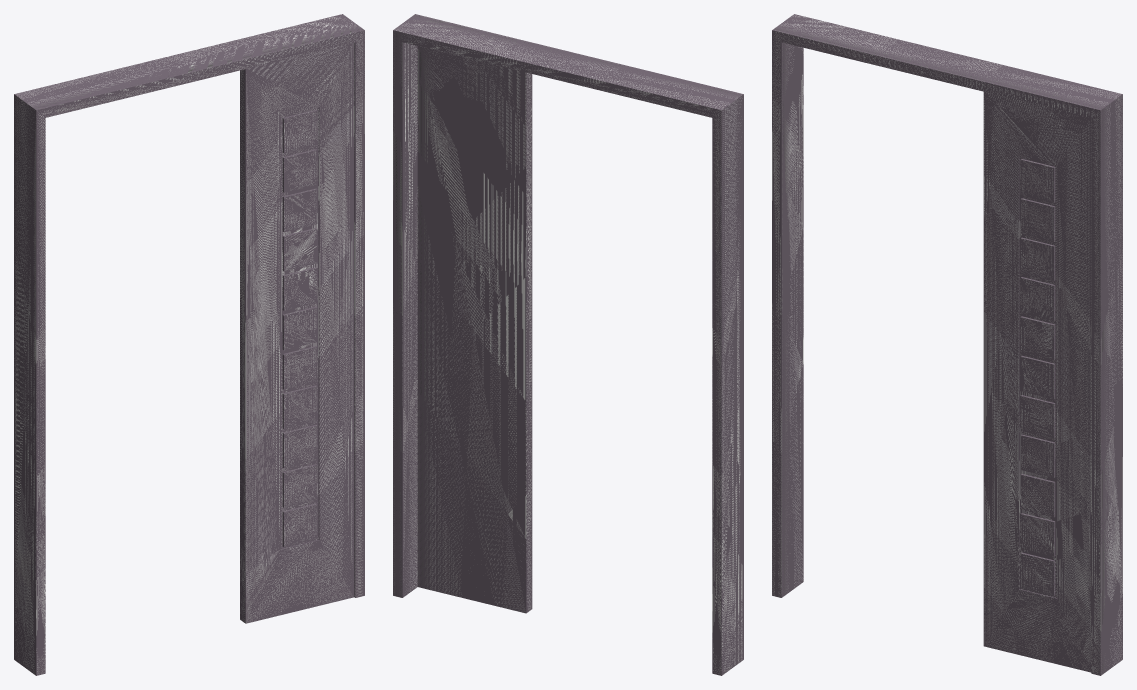
Rendered from frame.dae.
3 views of the same model, side by side, from view 1: azimuth 30°, elevation 25°; view 2: azimuth 150°, elevation 25°; view 3: azimuth 330°, elevation 25° (orthographic).
Parts seen in each view (by area): view 1: group_1.117, group_5.012, group_1.118, instance_7.002, instance_9, instance_0.133, instance_2.005, instance_3.011, instance_4.002, instance_5, instance_10, instance_1.006 (+2 smaller); view 2: group_1.117, group_5.012; view 3: group_5.012, group_1.117, group_1.118, instance_7.002, instance_0.133, instance_2.005, instance_3.011, instance_5, instance_9, instance_6.001, instance_8, instance_1.006 (+2 smaller).
Part boxes in pixels (x1=…): group_1.117: x1=240, y1=42, x2=354, y2=623; group_5.012: x1=14, y1=14, x2=364, y2=675; group_1.118: x1=281, y1=107, x2=319, y2=549; instance_7.002: x1=282, y1=267, x2=317, y2=310; instance_9: x1=282, y1=346, x2=317, y2=389; instance_0.133: x1=282, y1=425, x2=317, y2=468; instance_2.005: x1=282, y1=503, x2=317, y2=546; instance_3.011: x1=282, y1=110, x2=317, y2=153; instance_4.002: x1=282, y1=228, x2=317, y2=271; instance_5: x1=282, y1=188, x2=317, y2=231; instance_10: x1=282, y1=385, x2=317, y2=428; instance_1.006: x1=282, y1=464, x2=317, y2=507; group_1.117: x1=417, y1=46, x2=532, y2=613; group_5.012: x1=393, y1=14, x2=743, y2=675; group_5.012: x1=772, y1=14, x2=1122, y2=675; group_1.117: x1=983, y1=92, x2=1091, y2=672; group_1.118: x1=1019, y1=156, x2=1057, y2=598; instance_7.002: x1=1020, y1=316, x2=1055, y2=359; instance_0.133: x1=1020, y1=474, x2=1055, y2=517; instance_2.005: x1=1020, y1=552, x2=1055, y2=595; instance_3.011: x1=1020, y1=159, x2=1055, y2=202; instance_5: x1=1020, y1=237, x2=1055, y2=280; instance_9: x1=1020, y1=395, x2=1055, y2=438; instance_6.001: x1=1020, y1=198, x2=1055, y2=241; instance_8: x1=1020, y1=355, x2=1055, y2=399; instance_1.006: x1=1020, y1=513, x2=1055, y2=556.
Bounding box in the file's own units: 1.31 × 0.1527 × 2.16.
2 materials, 1 textured.
